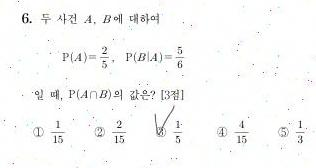choice: (153, 117, 167, 137)
not-choice: (92, 125, 107, 139), (215, 125, 228, 139), (276, 125, 290, 138), (31, 126, 45, 138)
